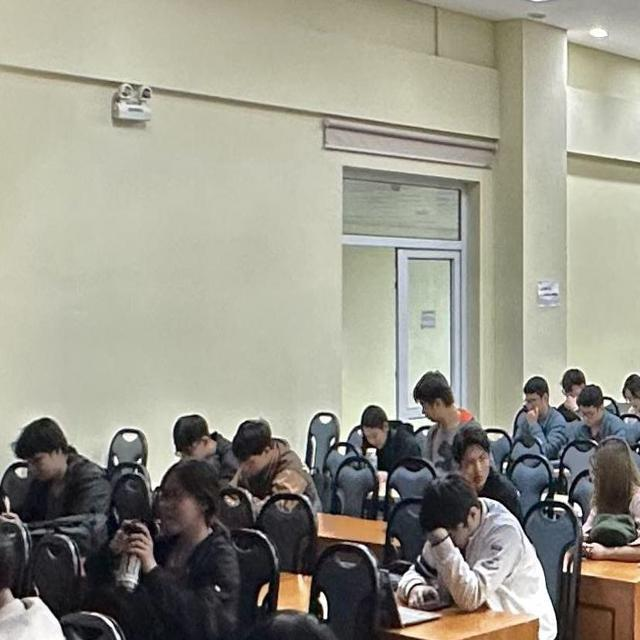Looking away: (19, 417, 80, 485), (586, 438, 640, 501), (173, 410, 221, 471), (231, 418, 277, 480), (460, 422, 497, 489), (413, 367, 453, 421), (519, 373, 555, 421), (361, 409, 389, 453), (577, 389, 607, 425), (626, 375, 640, 412)
Looking forward: (156, 466, 221, 539)
Phone use: (398, 476, 558, 637)
